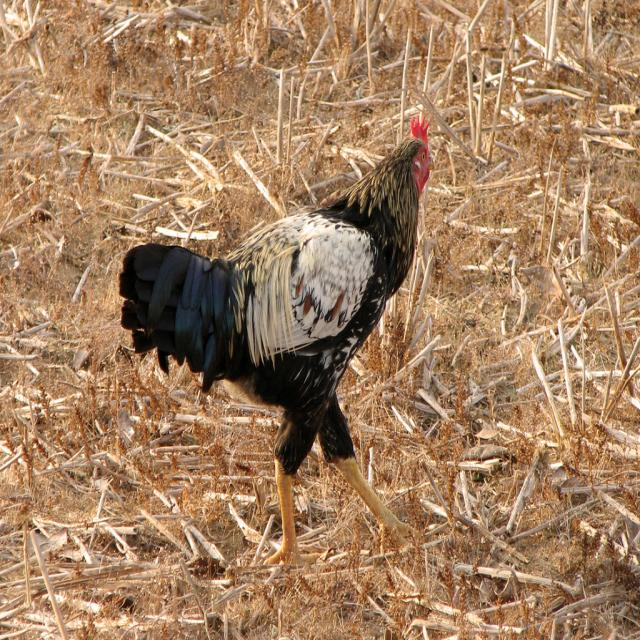Chicken: (118, 112, 436, 584)
